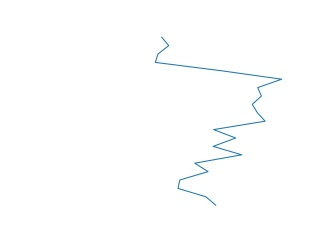floodPlain: (153, 34, 283, 209)
